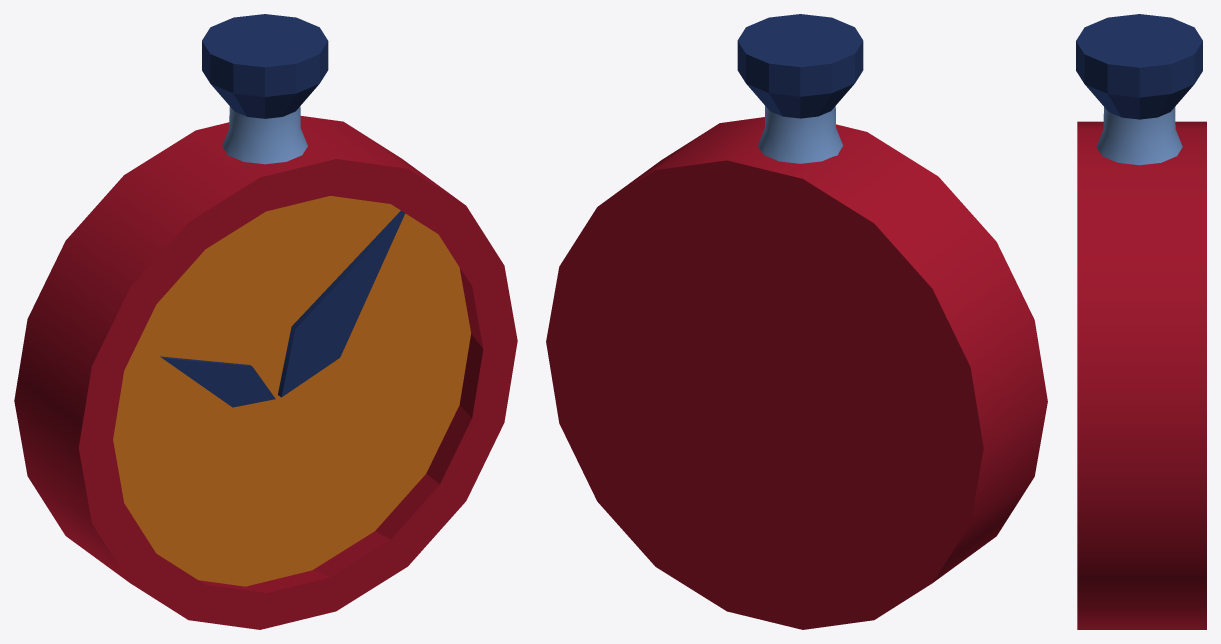
Rendered from PRMC_Reloj.FBX.
3 views of the same model, side by side, from view 1: azimuth 30°, elevation 25°; view 2: azimuth 150°, elevation 25°; view 3: azimuth 270°, elevation 25° (orthographic).
Parts seen in each view (by area): view 1: PRMC_Reloj; view 2: PRMC_Reloj; view 3: PRMC_Reloj.
Part boxes in pixels (x1,y1,x2,y2): PRMC_Reloj: (14, 14, 517, 629); PRMC_Reloj: (546, 14, 1047, 629); PRMC_Reloj: (1076, 14, 1206, 629).
Size of the model in its own units: 0.7739 by 0.9398 by 0.1986.
